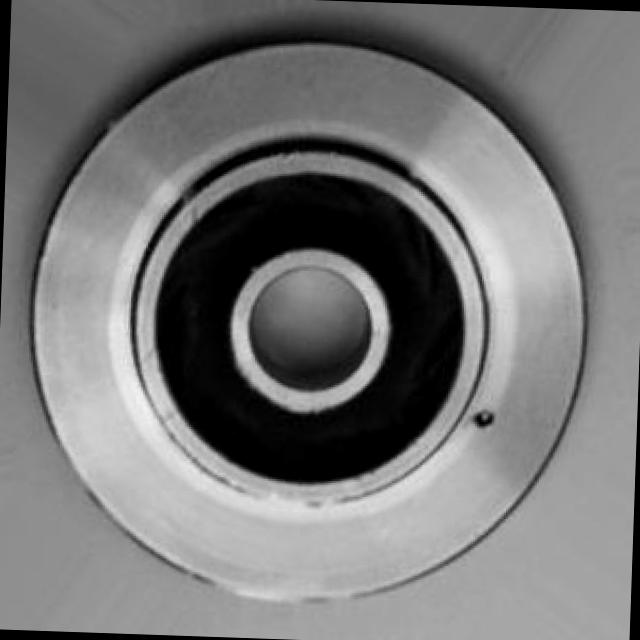Defect: (471, 398, 494, 436)
